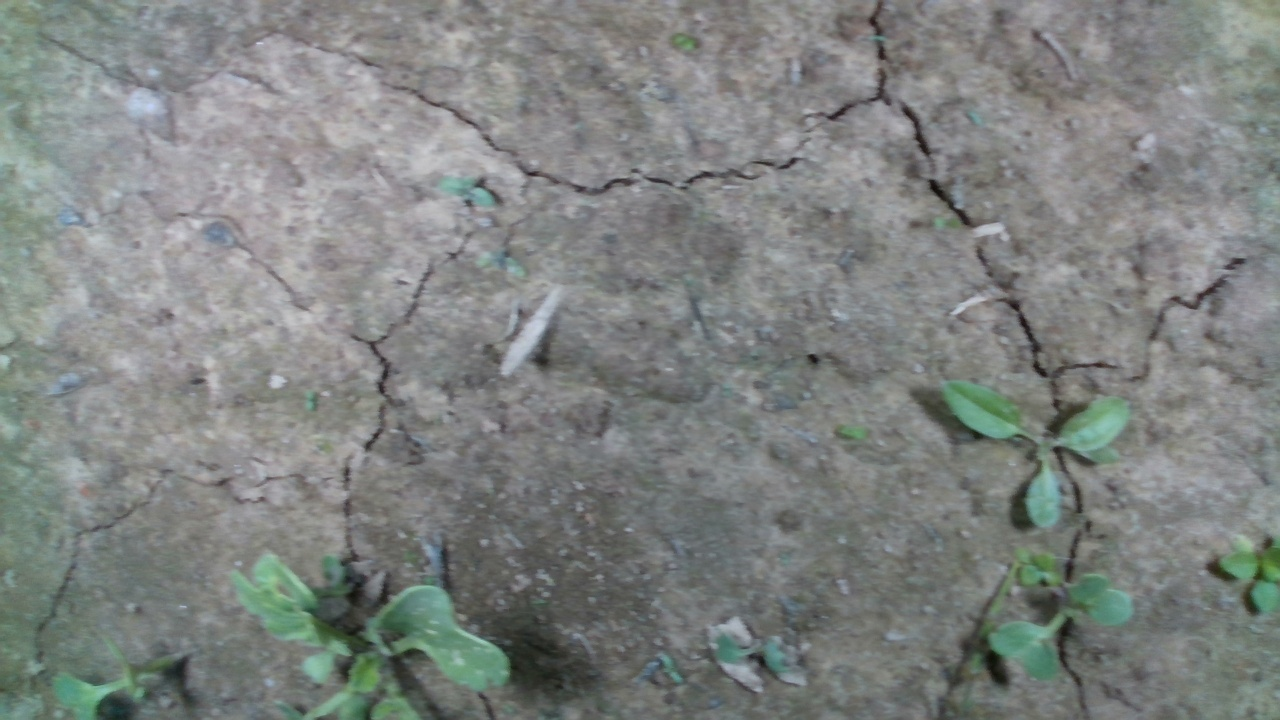weed: (302, 387, 316, 411)
